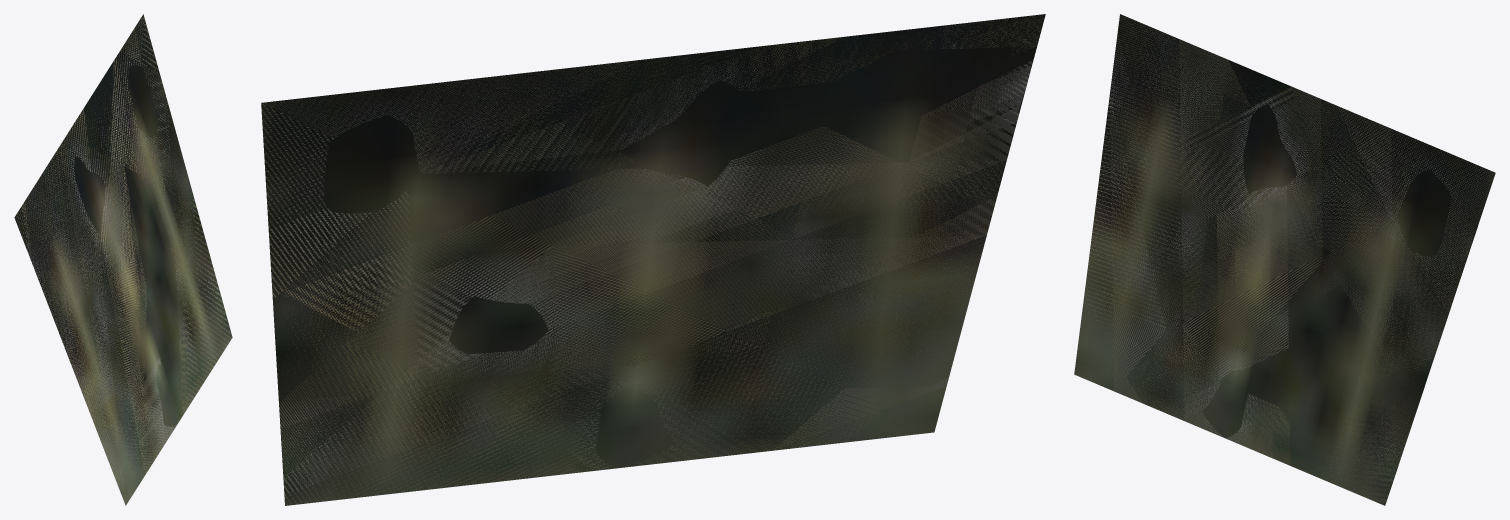
The model's file is 埃菲尔铁塔83.dae.
3 renders of one model, left to right at view 1: azimuth 30°, elevation 25°; view 2: azimuth 150°, elevation 25°; view 3: azimuth 270°, elevation 25°, orthographic. The views are drawn at different scales.
Visible parts, largest first — view 1: SketchUp; view 2: SketchUp; view 3: SketchUp.
Part boxes in pixels (bbox=[...]): SketchUp: bbox=[14, 14, 232, 505]; SketchUp: bbox=[261, 14, 1045, 505]; SketchUp: bbox=[1074, 14, 1495, 505].
Size of the model in its own units: 343 by 343 by 282.
